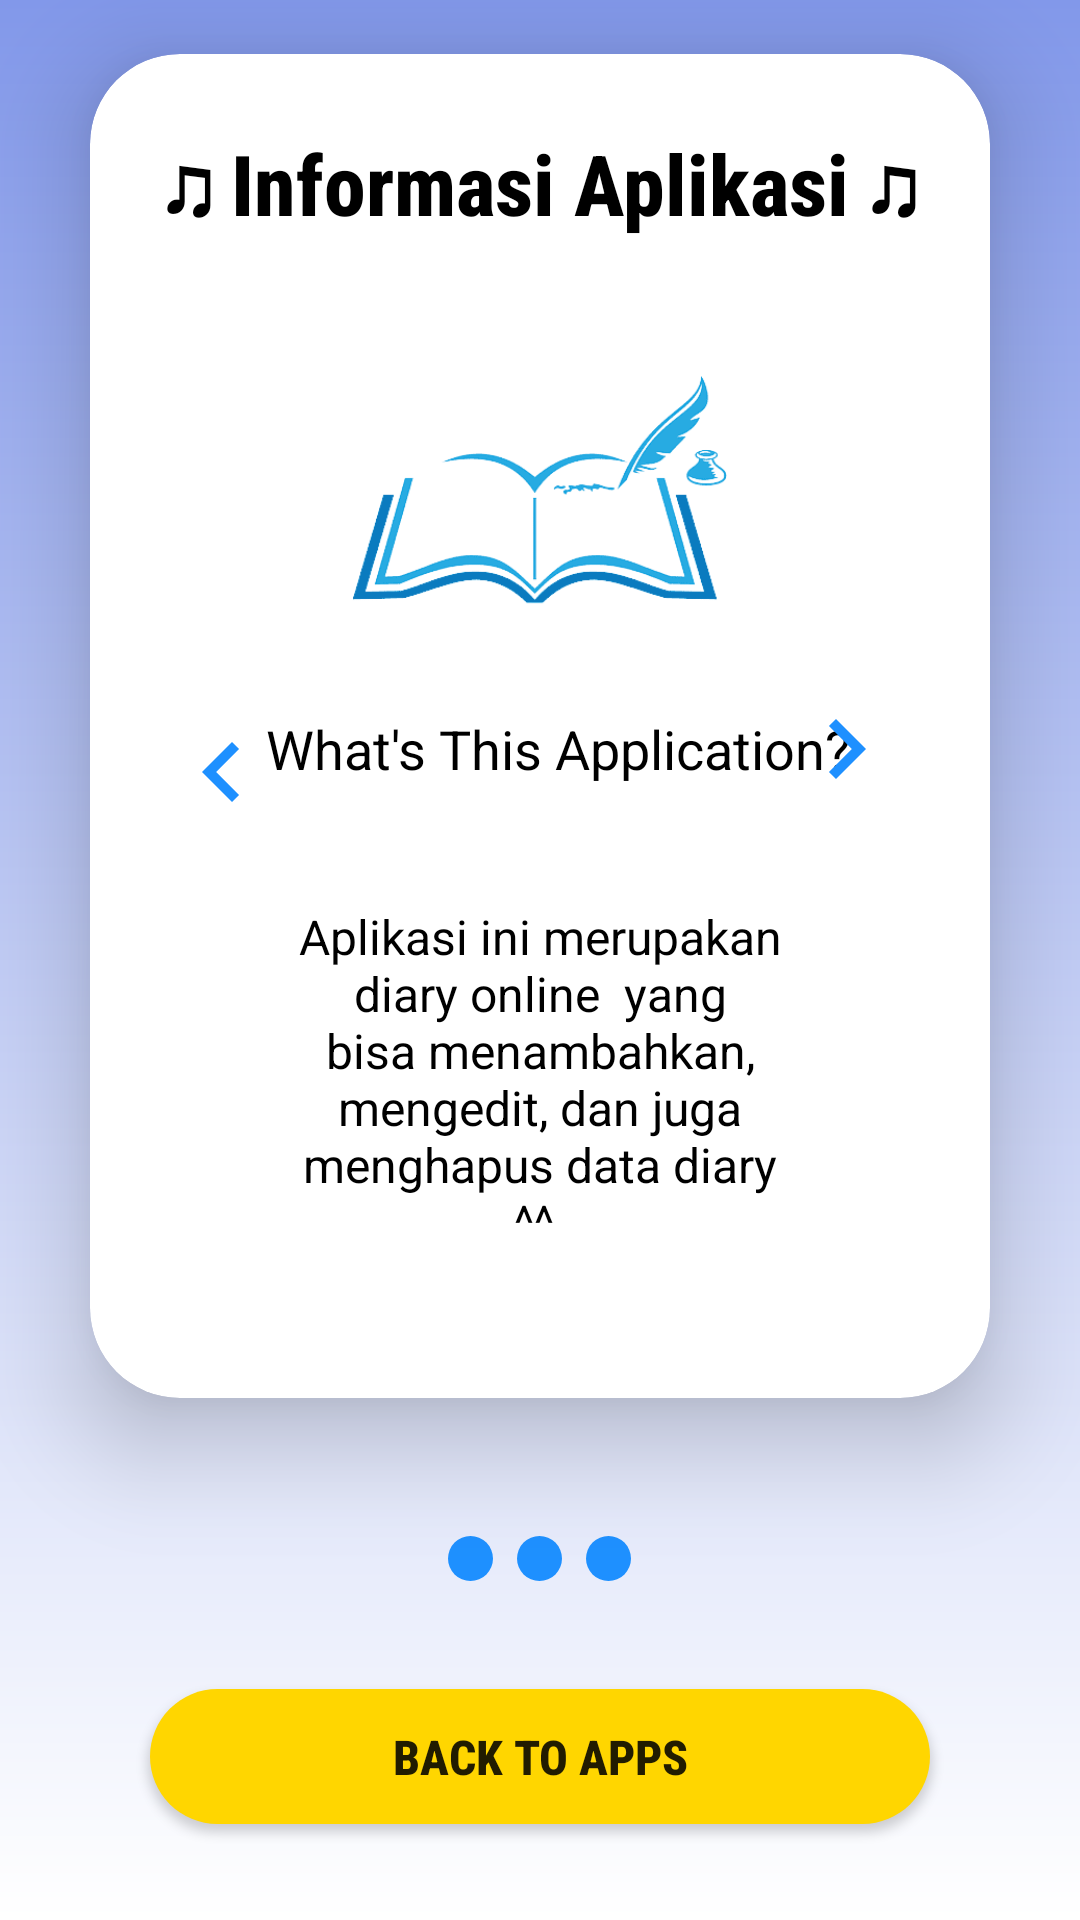

Named icons in this screenshot (1080px x 1920px) and their centers, (x=x, y=y):
back: (x=220, y=772)
